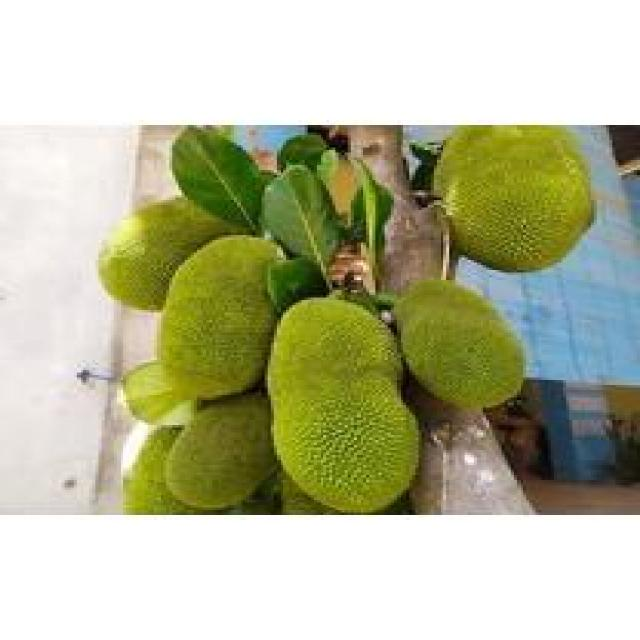Fruit: (83, 180, 299, 420), (255, 282, 431, 512), (412, 128, 610, 282), (382, 262, 532, 428)
